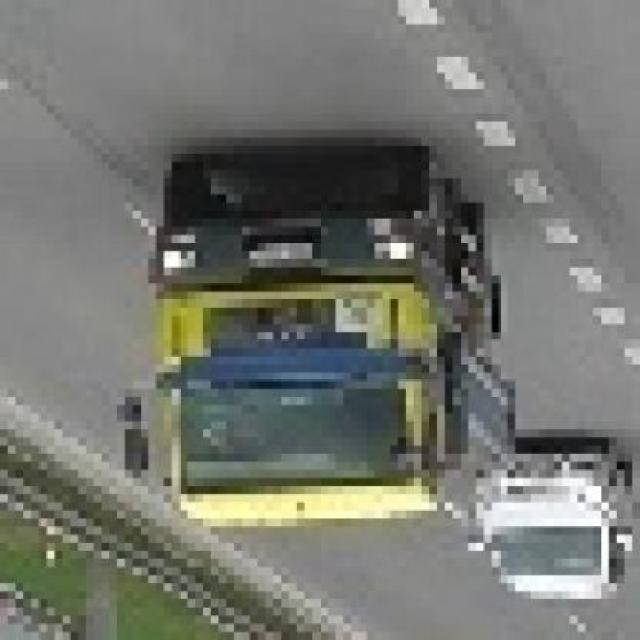truck: (126, 171, 493, 543)
